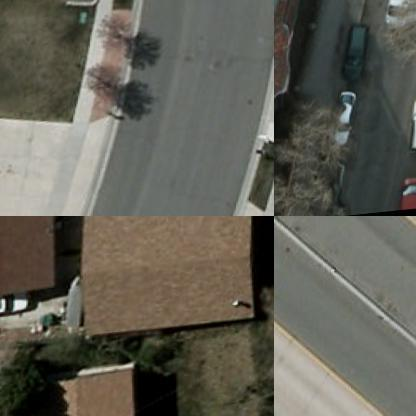car: (341, 18, 374, 76), (0, 288, 26, 319), (407, 96, 415, 158)
van: (385, 0, 415, 30)
